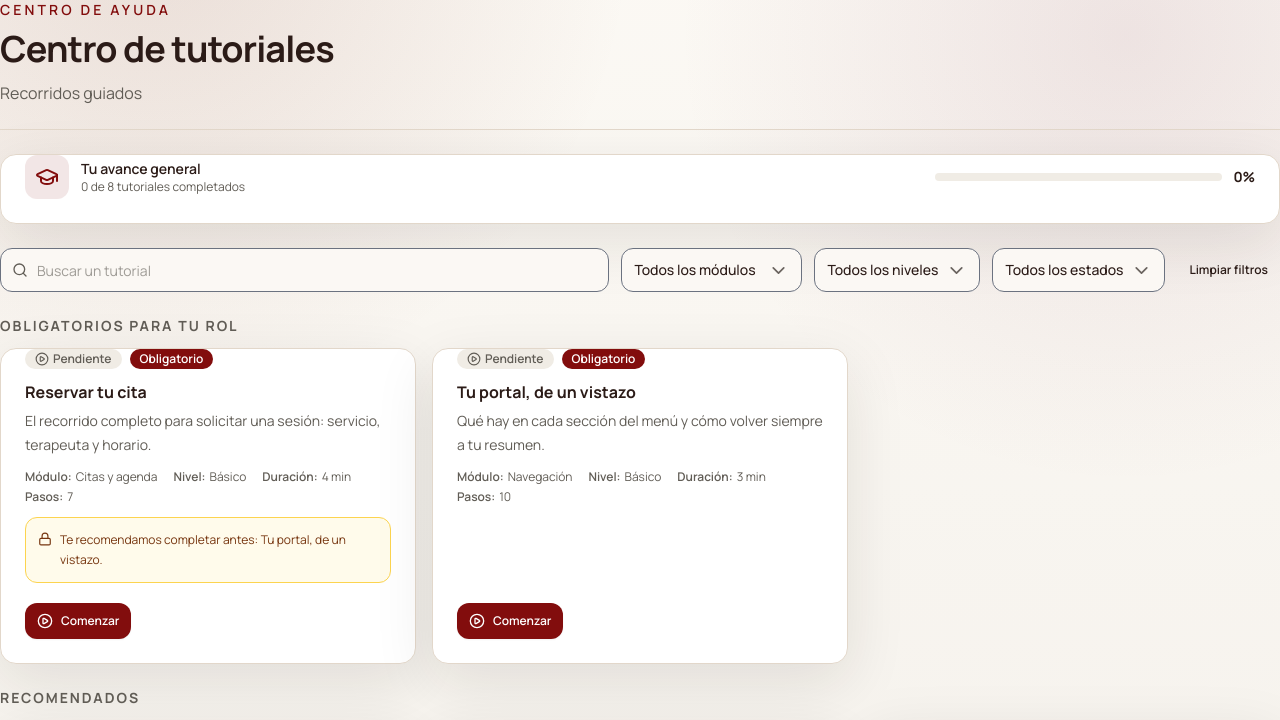
it: Centro de tutoriales › filtra por texto de búsqueda
Expected: the heading "Tu portal, de un vistazo" is shown, [457,381,636,403]
Type "premium" into the field labelled "Buscar un tutorial".
click(305, 270); type("premium")  # box [0,248,609,292]
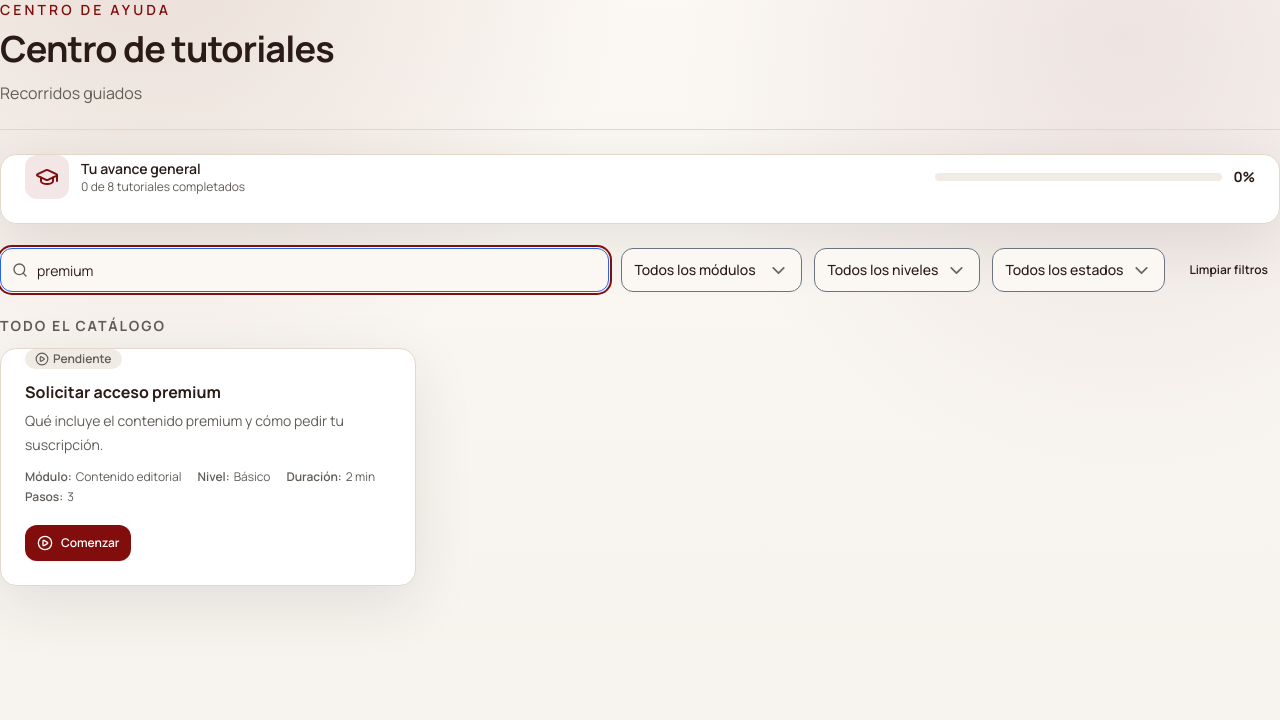
Expected: the heading "Solicitar acceso premium" is shown, [25,381,221,403]
Expected: the text "Tu portal, de un vistazo" is gone
